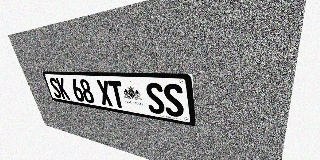6: (69, 78, 85, 102)
8: (78, 79, 95, 104)
K: (55, 78, 70, 100)
S: (162, 83, 185, 118), (144, 82, 166, 115), (48, 77, 62, 98)
T: (108, 80, 126, 109)
X: (96, 80, 114, 107)
